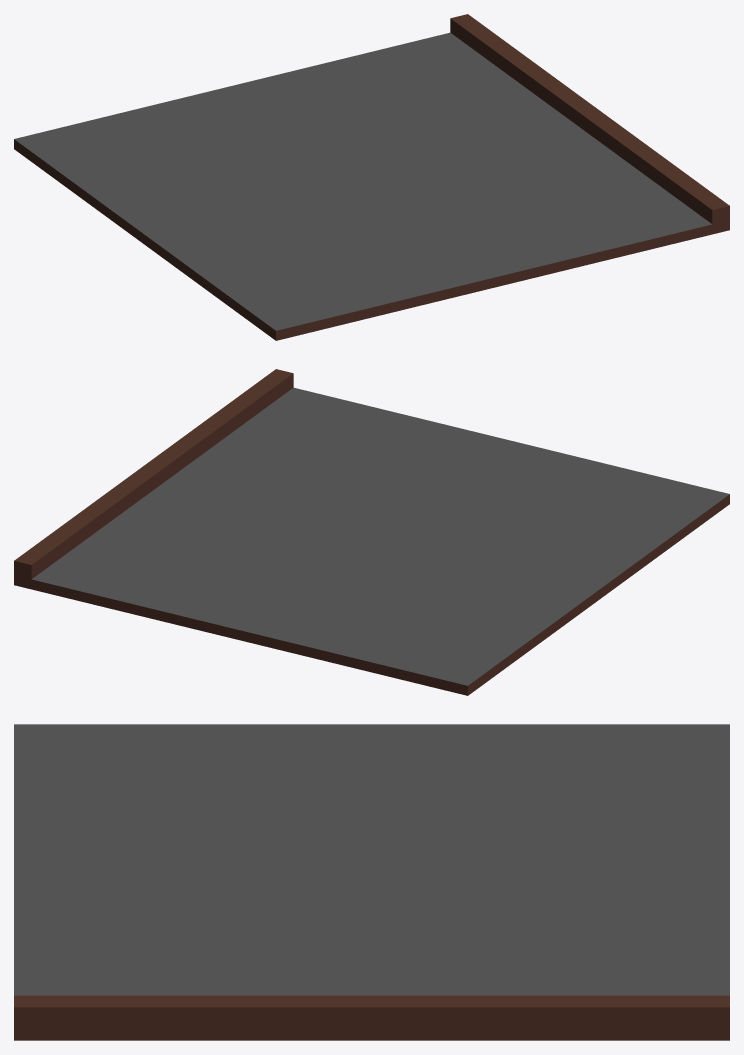
The model's file is roof-c.glb.
The picture shows the model from 3 angles, top to bottom: view 1: azimuth 30°, elevation 25°; view 2: azimuth 150°, elevation 25°; view 3: azimuth 270°, elevation 25°; orthographic projection. The views are drawn at different scales.
Visible parts, largest first — view 1: Roof C (×2); view 2: Roof C (×2); view 3: Roof C (×2).
Part boxes in pixels (box(x1,y1,x2,y2)): Roof C (×2): box(14, 14, 729, 340); Roof C (×2): box(14, 369, 729, 695); Roof C (×2): box(14, 724, 729, 1040).
Size of the model in its own units: 3.3 by 0.1692 by 3.3.
